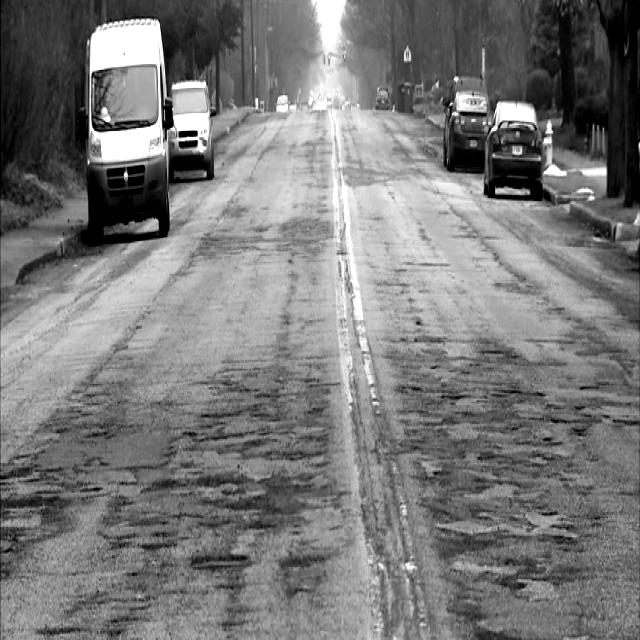pathole: (189, 352, 340, 499), (398, 341, 520, 519), (104, 462, 318, 555), (510, 375, 640, 457), (441, 519, 582, 588), (1, 457, 102, 548), (279, 530, 335, 595), (191, 550, 249, 571)
